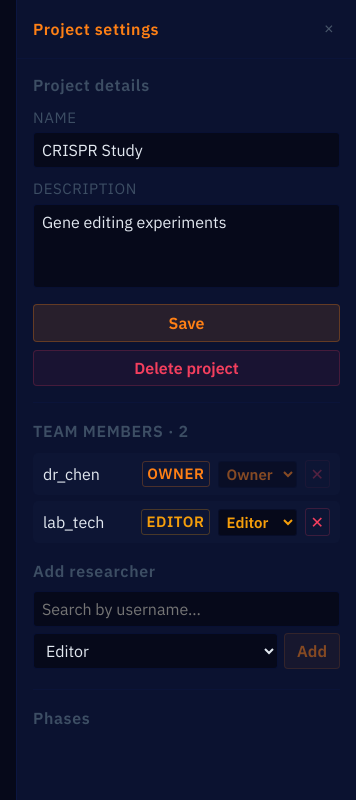
Test: ProjectSettingsPanel › clicking DELETE PROJECT once shows CONFIRM DELETE ?
Click the button "Delete project" at (186, 368), box [33,350,340,386]
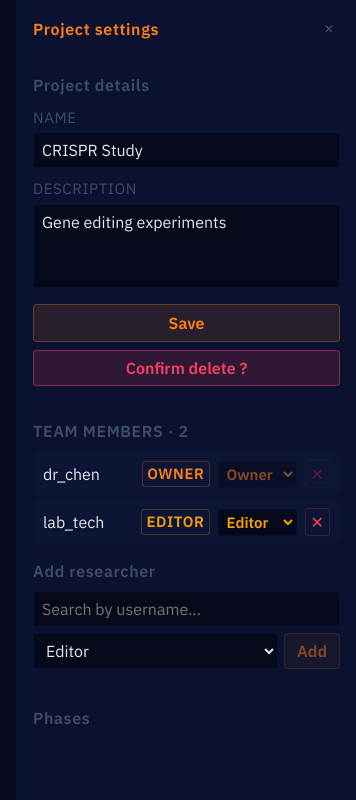
Expected: the button "Confirm delete ?" is shown, [33,350,340,386]
